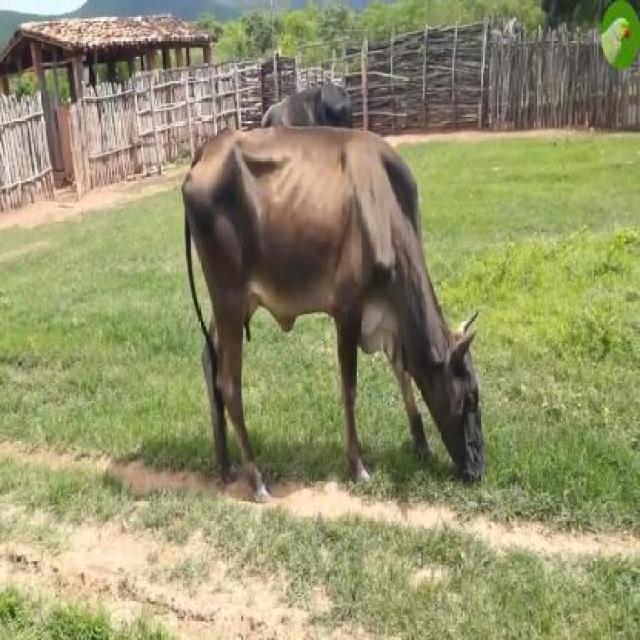Cow: (183, 128, 482, 495)
